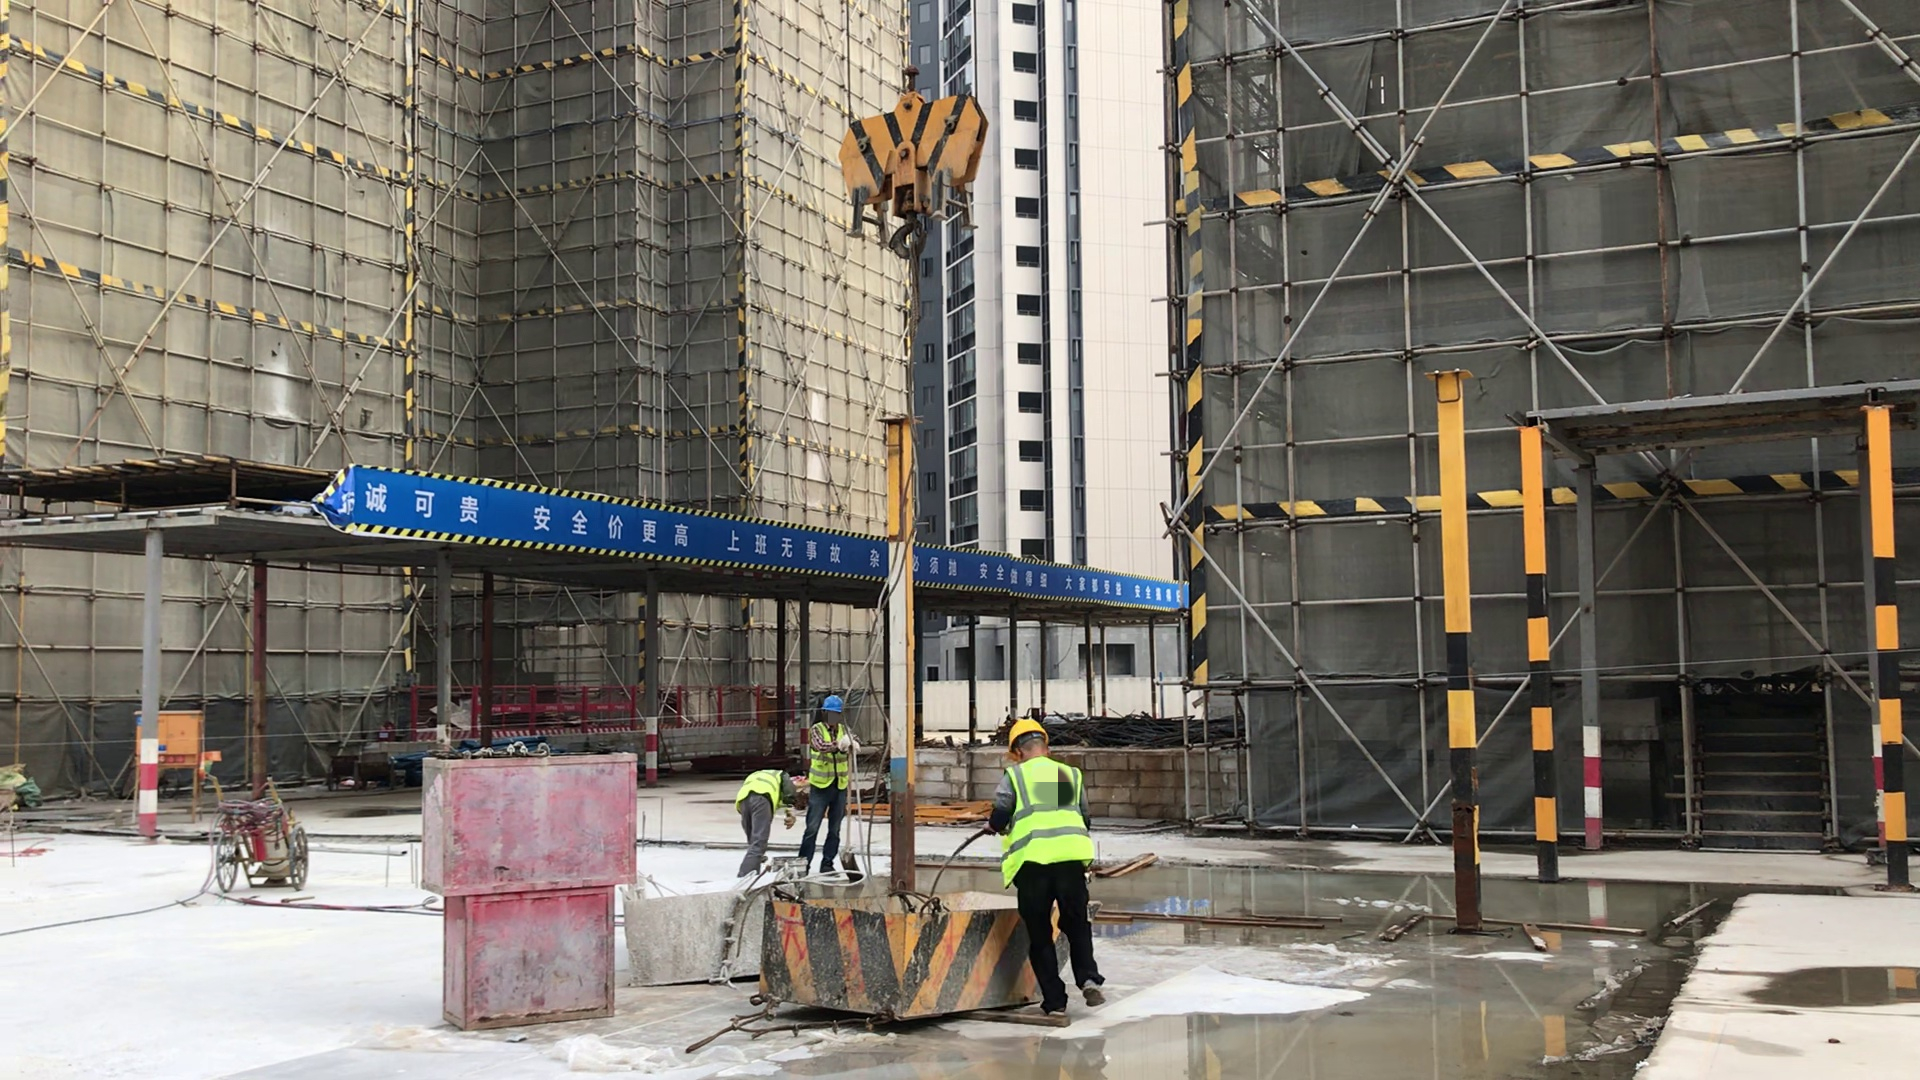ebox: (162, 704, 203, 835)
fence: (356, 465, 877, 585), (922, 548, 1182, 613), (493, 679, 643, 728), (662, 680, 774, 728)
handcart: (199, 772, 311, 895)
helmet: (1002, 718, 1053, 756), (819, 697, 844, 716)
hook: (830, 54, 992, 261)
hopper: (762, 880, 1024, 1024), (618, 868, 770, 994)
person: (975, 719, 1122, 1016), (799, 693, 863, 882), (732, 764, 799, 871)
vest: (996, 754, 1100, 888), (810, 722, 853, 792), (738, 770, 785, 811)
